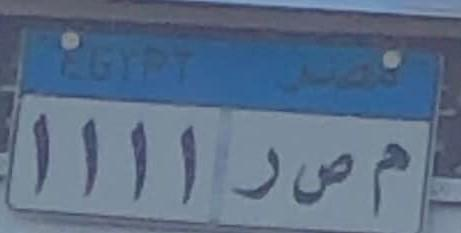1: (166, 116, 209, 210), (24, 109, 64, 199), (122, 116, 158, 205), (73, 117, 111, 201)
meem: (362, 137, 417, 222)
raa: (232, 142, 283, 209)
saad: (289, 144, 354, 215)
